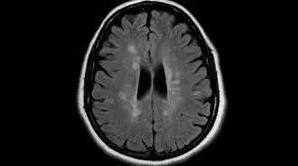Normal_Brain: (77, 1, 256, 166)
